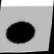correct: (0, 18, 39, 48)
